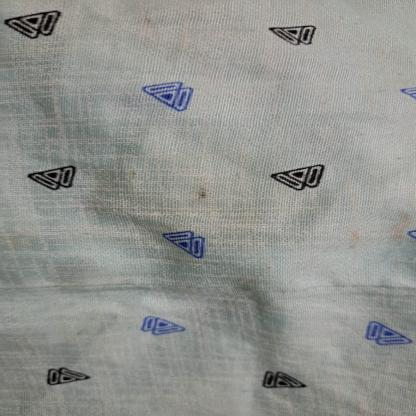spot: (392, 201, 411, 252), (340, 225, 362, 250), (193, 184, 212, 203), (127, 168, 144, 184)
